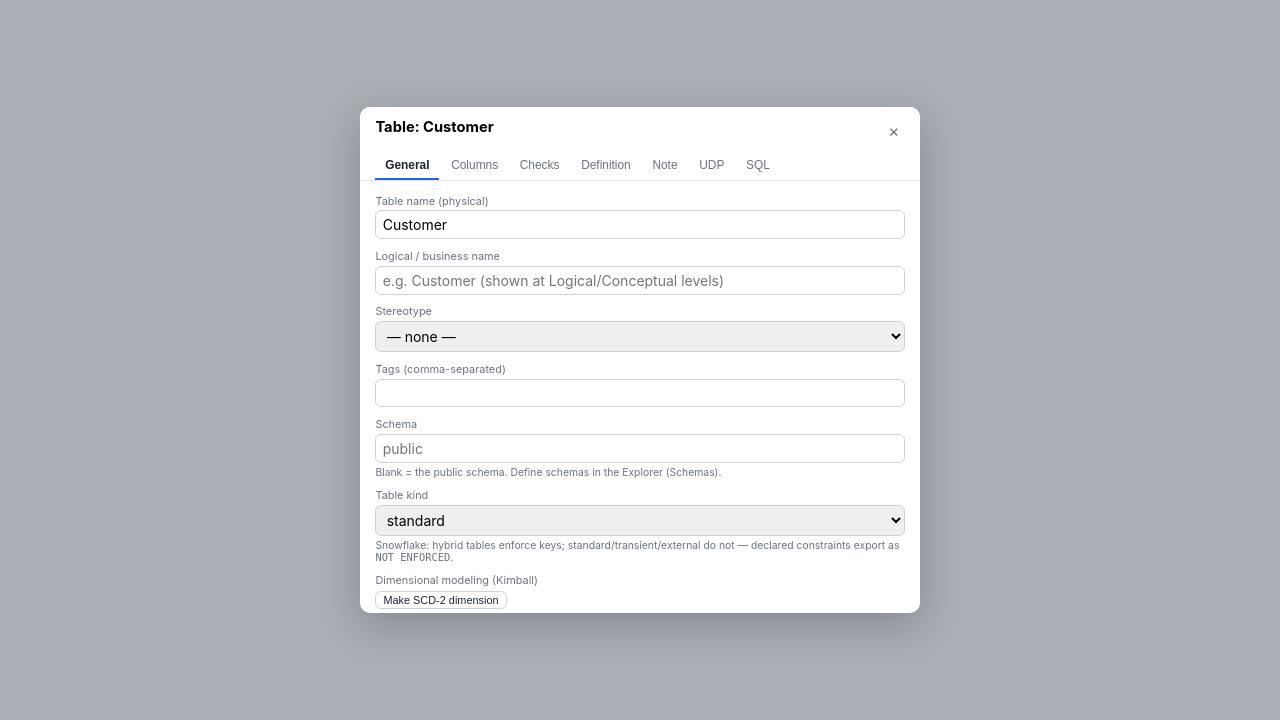
Inspector DDL tab honours the model dialect › renders Postgres types for a postgres model
This screenshot has width=1280, height=720.
Click the button with class "tab-btn" showing "SQL".
click(758, 166)  # box left=736, top=153, right=780, bottom=180
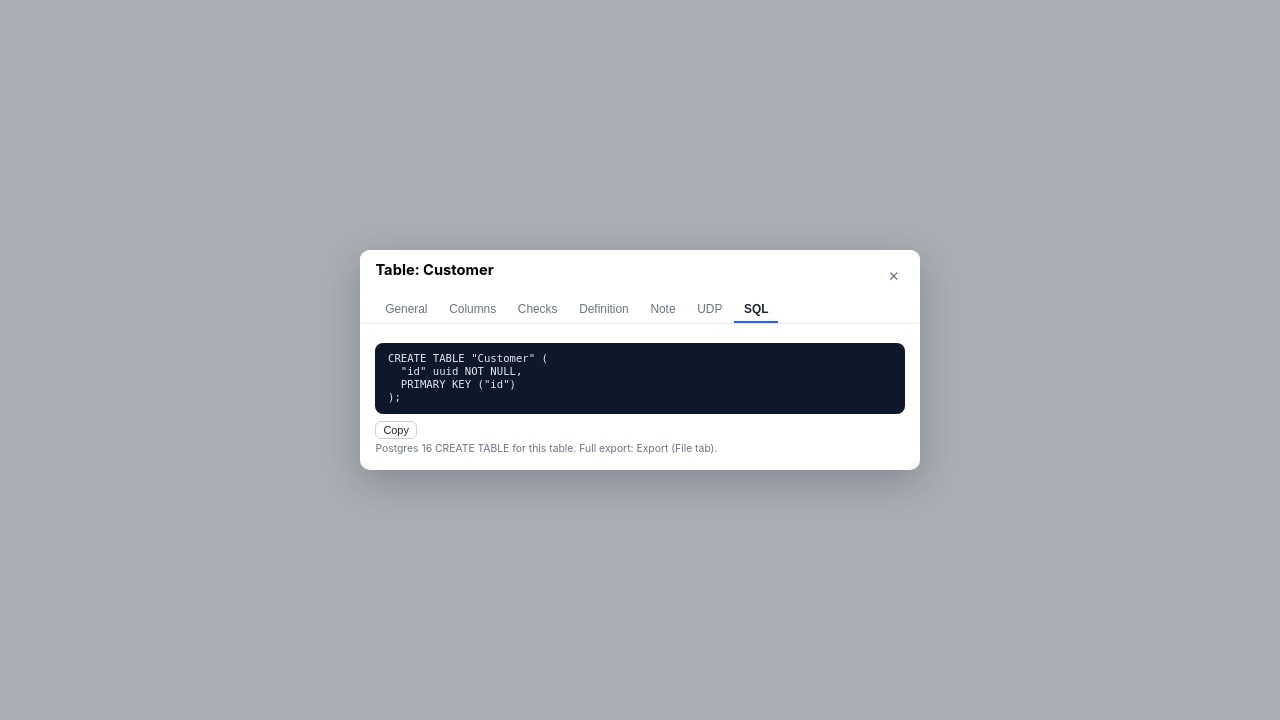
Now the text "uuid" is shown, box left=388, top=352, right=548, bottom=404
Now the text "Postgres 16 CREATE TABLE" is shown, box left=375, top=442, right=717, bottom=454
